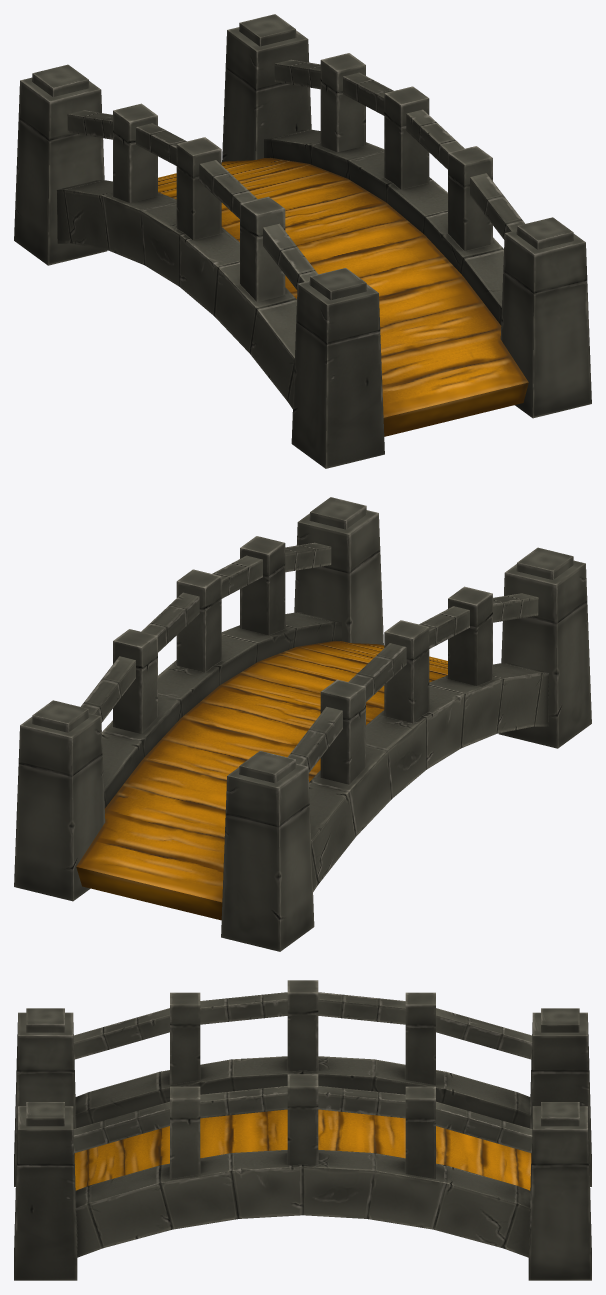
File: bridge.fbx
3 renders of one model, top to bottom at view 1: azimuth 30°, elevation 25°; view 2: azimuth 150°, elevation 25°; view 3: azimuth 270°, elevation 25°, orthographic. The views are drawn at different scales.
Parts seen in each view (by area): view 1: bridge; view 2: bridge; view 3: bridge.
Part boxes in pixels (box(x1,y1,x2,y2)): bridge: box(14, 14, 591, 468); bridge: box(14, 497, 591, 951); bridge: box(14, 980, 591, 1280).
Size of the model in its own units: 2.16 by 1.56 by 4.37.
Materials: 1 (1 with a texture image).
